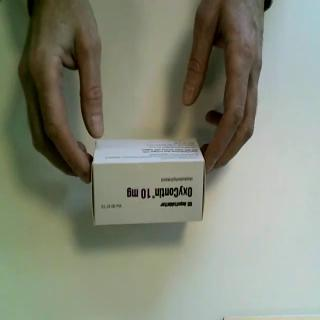oxycontin10mg: (91, 137, 208, 227)
